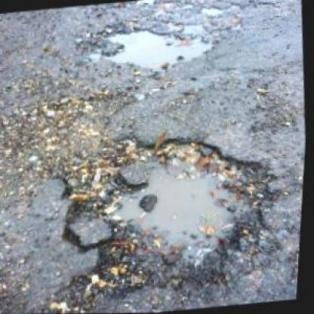Hueco: (43, 128, 295, 311), (74, 15, 224, 78)
